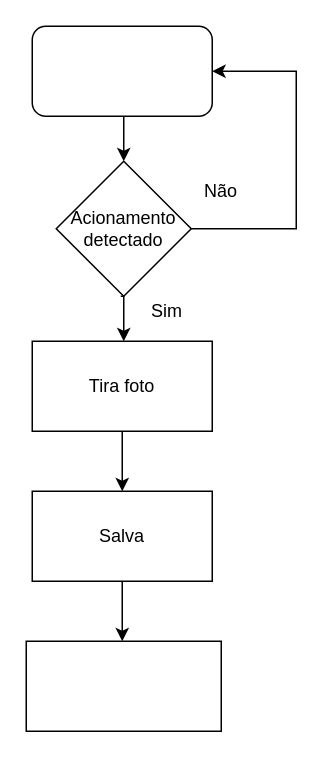
Image size: 335x758. Some labels were removed from this diagram. The centre of each missing label's shape, as x and y in pixels:
Aguardando acionamento da campainha: the point at 121,70
Envia para email predeterminado: the point at 123,685
